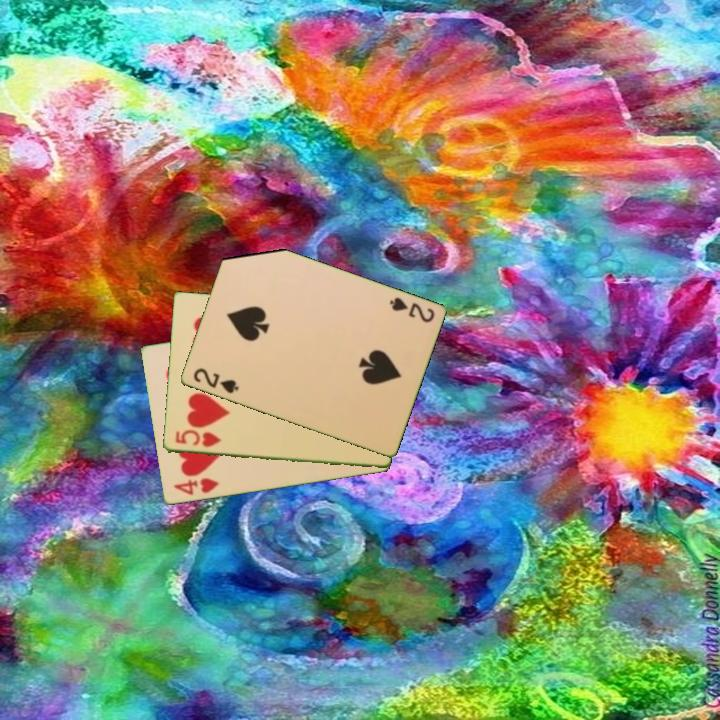2s: (189, 364, 242, 397), (385, 294, 437, 326)
4h: (170, 475, 222, 498)
5h: (172, 428, 223, 450)
